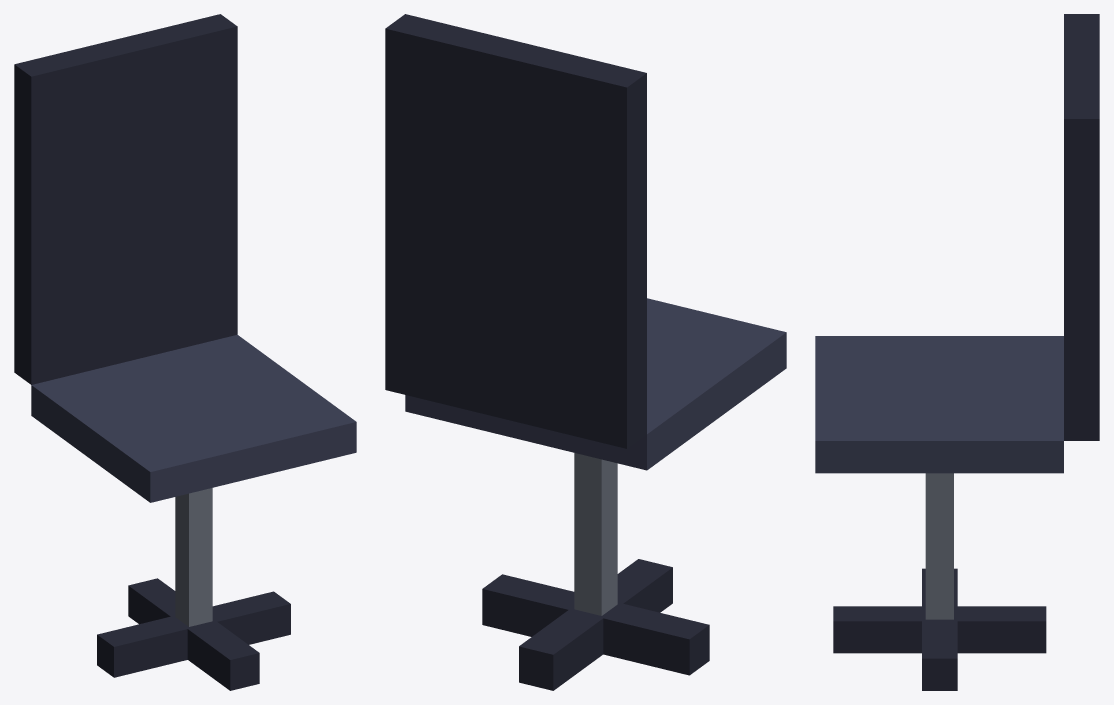
File: office_chair.glb
The picture shows the model from 3 angles, left to right: view 1: azimuth 30°, elevation 25°; view 2: azimuth 150°, elevation 25°; view 3: azimuth 270°, elevation 25°; orthographic projection. The views are drawn at different scales.
Visible parts, largest first — view 1: office_chair; view 2: office_chair; view 3: office_chair.
Part boxes in pixels (x1,y1,x2,y2): office_chair: (14,14,356,690); office_chair: (385,14,786,690); office_chair: (815,14,1099,690).
Size of the model in its own units: 0.35 by 0.9 by 0.4.
1 material, 1 textured.
